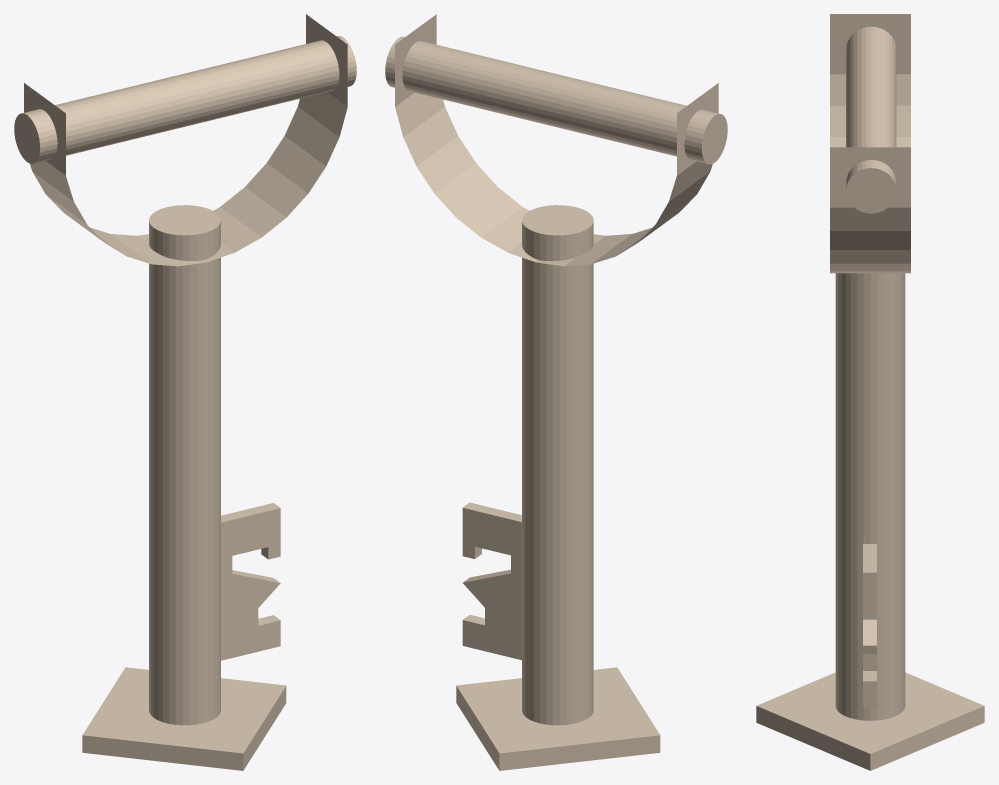
Rendered from False key 1.glb.
The picture shows the model from 3 angles, left to right: view 1: azimuth 30°, elevation 25°; view 2: azimuth 150°, elevation 25°; view 3: azimuth 270°, elevation 25°; orthographic projection. The views are drawn at different scales.
Visible parts, largest first — view 1: Keys, Cylinder.004, Cylinder.005, Plane.001, Plane.002; view 2: Keys, Cylinder.004, Cylinder.005, Plane.001, Plane.002; view 3: Keys, Cylinder.005, Plane.001, Cylinder.004, Plane.002.
Part boxes in pixels (x1,y1,x2,y2): Keys: (149,205,220,725); Cylinder.004: (14,36,356,163); Cylinder.005: (24,14,347,266); Plane.001: (82,667,286,770); Plane.002: (221,503,280,660); Keys: (522,205,593,725); Cylinder.004: (385,36,727,164); Cylinder.005: (395,14,718,266); Plane.001: (456,667,660,770); Plane.002: (462,502,521,660); Keys: (835,273,905,720); Cylinder.005: (830,14,910,273); Plane.001: (756,672,984,770); Cylinder.004: (846,26,896,213); Plane.002: (863,543,876,706).
Bounding box in the file's own units: 0.1809 × 0.3625 × 0.1166.
